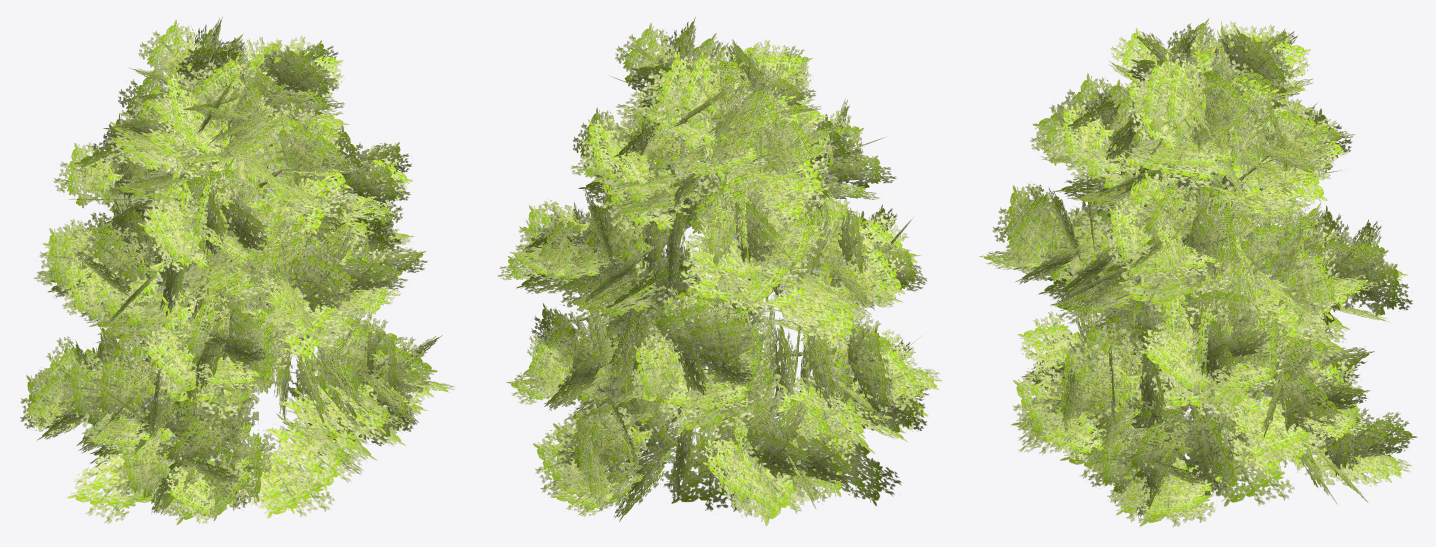
Rendered from new-tree.glb.
3 views of the same model, side by side, from view 1: azimuth 30°, elevation 25°; view 2: azimuth 150°, elevation 25°; view 3: azimuth 270°, elevation 25° (orthographic). The views are drawn at different scales.
Parts seen in each view (by area): view 1: leaf; view 2: leaf; view 3: leaf.
Boxes of the visible parts, x1=… form: leaf: x1=20, y1=17, x2=454, y2=524; leaf: x1=497, y1=17, x2=941, y2=525; leaf: x1=979, y1=18, x2=1416, y2=527.
Bounding box in the file's own units: 78.33 × 85.16 × 75.16.
Materials: 1 (1 with a texture image).
